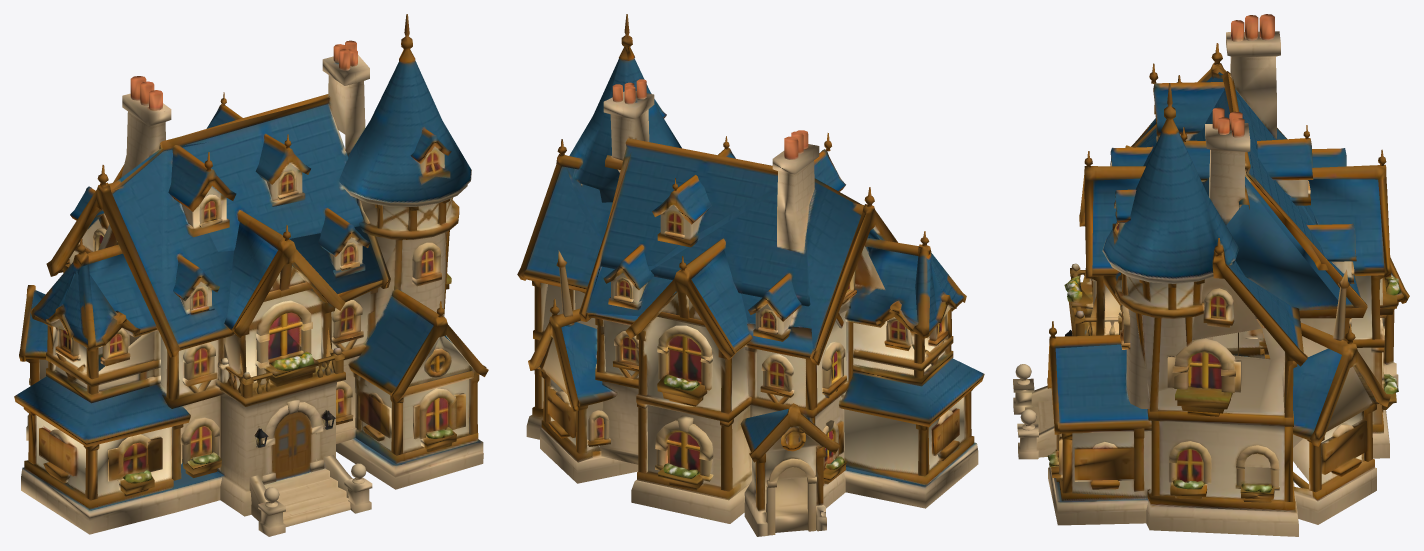
The picture shows the model from 3 angles, left to right: view 1: azimuth 30°, elevation 25°; view 2: azimuth 150°, elevation 25°; view 3: azimuth 270°, elevation 25°; orthographic projection. The views are drawn at different scales.
Parts seen in each view (by area): view 1: house-tier5; view 2: house-tier5; view 3: house-tier5.
Boxes of the visible parts, bbox=[...] form: house-tier5: bbox=[14, 14, 488, 536]; house-tier5: bbox=[517, 14, 984, 536]; house-tier5: bbox=[1013, 14, 1409, 536].
Bounding box in the file's own units: 8.75 × 8.36 × 6.97.
Materials: 1 (1 with a texture image).
